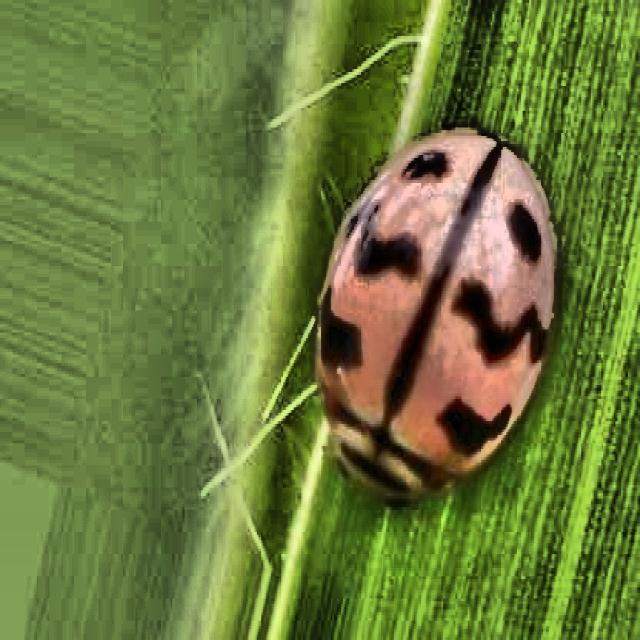Asian-Lady-beetle: (280, 69, 584, 526)
